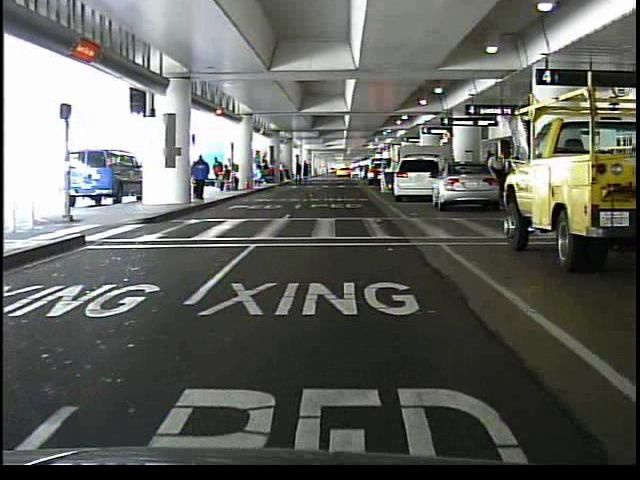person: (189, 152, 212, 204)
